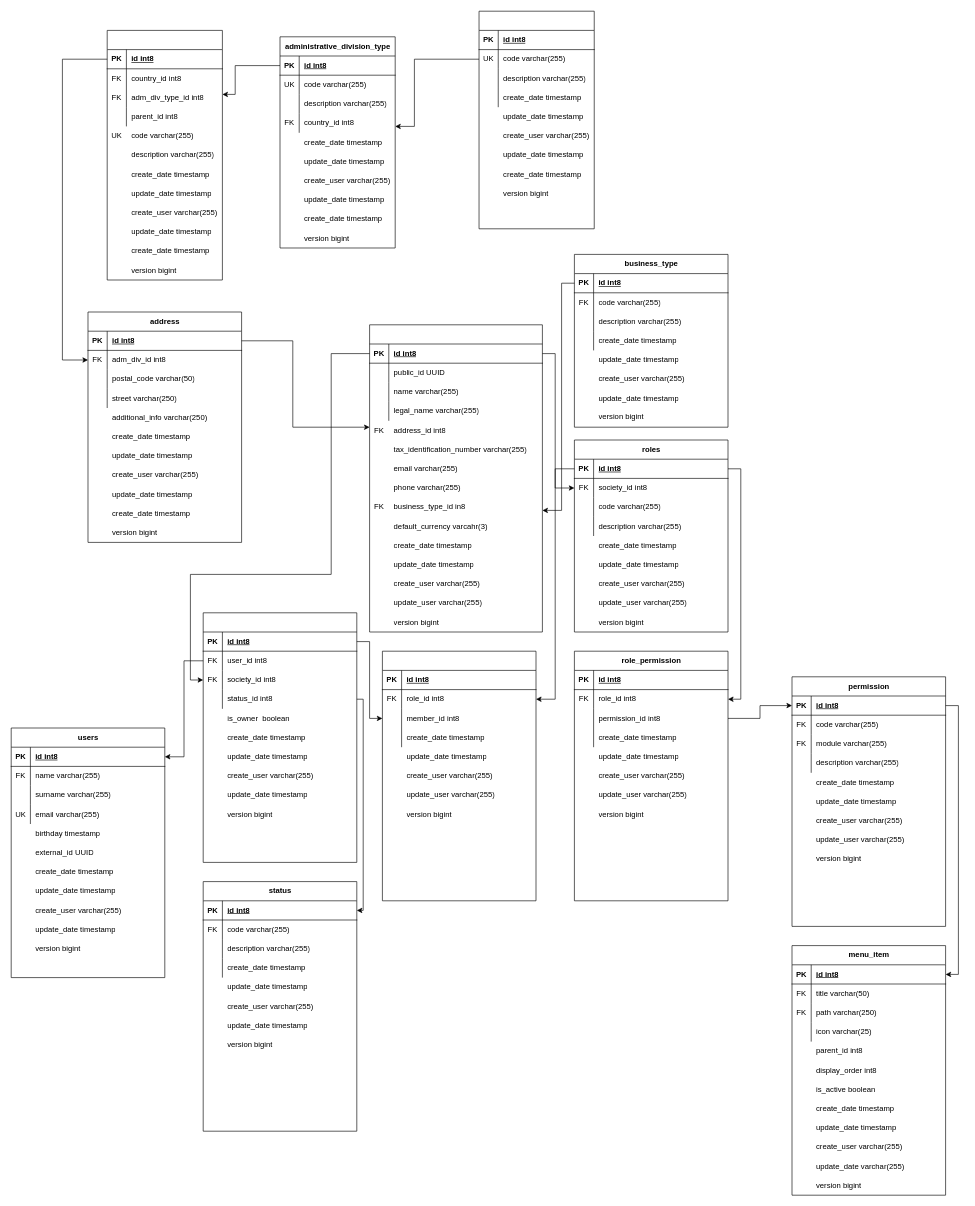
Some shapes in this 975 by 1206 pixel diagram are drawn without their labels. The box of each missing label's shape, as (x1, y1, x2, y2) in pixels:
administrative_division: (107, 30, 222, 280)
country: (478, 11, 594, 229)
member_role: (382, 651, 536, 901)
society: (369, 324, 542, 632)
society_member: (203, 612, 357, 862)
